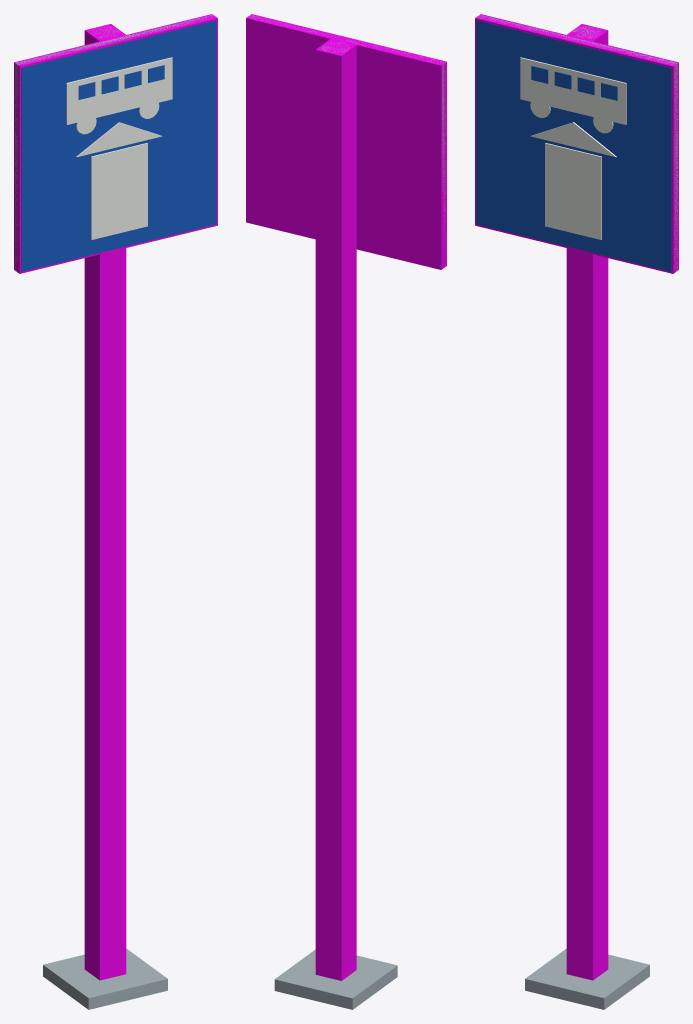
Rendered from PT_Sign_5_14_BusLane.fbx.
The picture shows the model from 3 angles, left to right: view 1: azimuth 30°, elevation 25°; view 2: azimuth 150°, elevation 25°; view 3: azimuth 330°, elevation 25°; orthographic projection.
Visible parts, largest first — view 1: COL_Post, Face_Blue, Pictogram, Post, COL_Plate, Plate_Back, Pictogram_Windows; view 2: COL_Post, COL_Plate, Post, Plate_Back; view 3: COL_Post, Face_Blue, Pictogram, Post, COL_Plate, Plate_Back, Pictogram_Windows.
Part boxes in pixels (x1,y1,x2,y2): COL_Post: [84, 24, 126, 980]; Face_Blue: [21, 20, 216, 271]; Pictogram: [66, 57, 172, 239]; Post: [43, 27, 167, 1009]; COL_Plate: [14, 14, 217, 273]; Plate_Back: [15, 15, 216, 271]; Pictogram_Windows: [78, 65, 164, 99]; COL_Post: [315, 39, 356, 980]; COL_Plate: [246, 14, 446, 269]; Post: [274, 41, 397, 1009]; Plate_Back: [249, 15, 445, 265]; COL_Post: [566, 24, 608, 980]; Face_Blue: [476, 20, 671, 271]; Pictogram: [520, 57, 626, 239]; Post: [525, 27, 649, 1009]; COL_Plate: [475, 14, 678, 273]; Plate_Back: [478, 15, 677, 271]; Pictogram_Windows: [531, 66, 617, 100].
Bounding box in the file's own units: 0.6 × 2.75 × 0.24.
